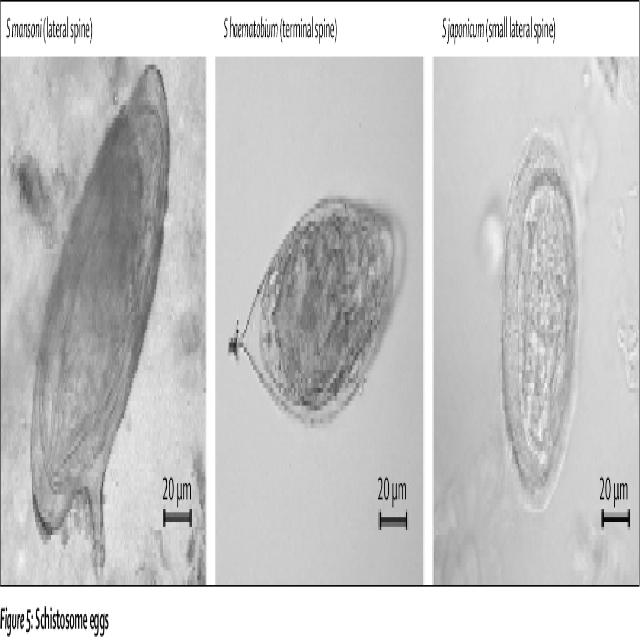Schistosoma: (21, 47, 175, 599), (230, 178, 410, 418), (495, 112, 586, 508)
